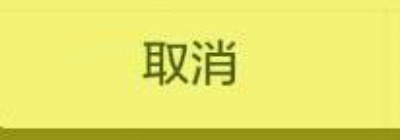Button: (1, 1, 399, 139)
